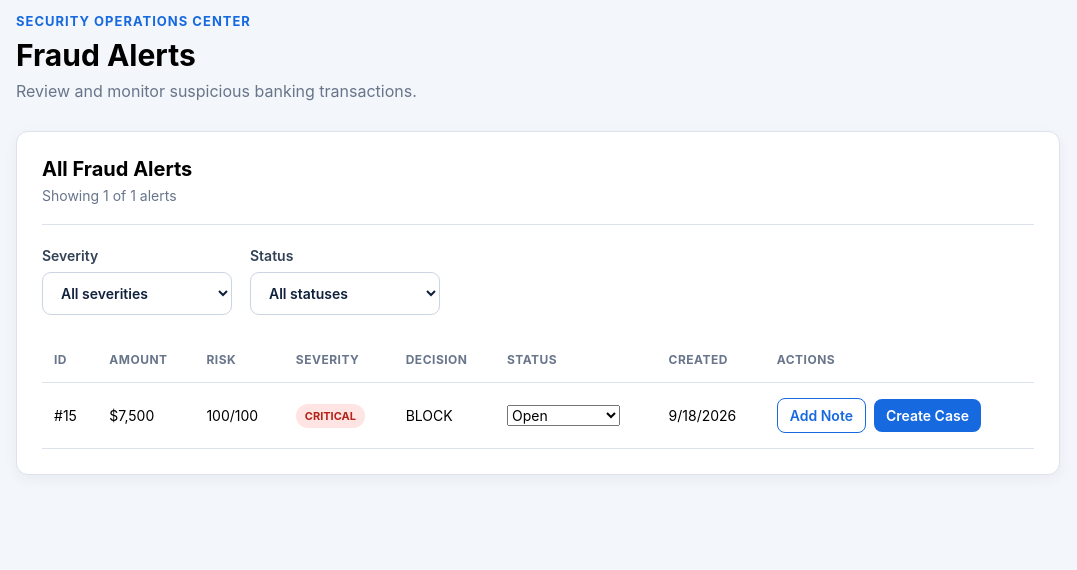
Test: FraudAlertsPage › updates an alert status
Select "Resolved" in the 3rd dropdown: (563, 416) [507,405,620,426]
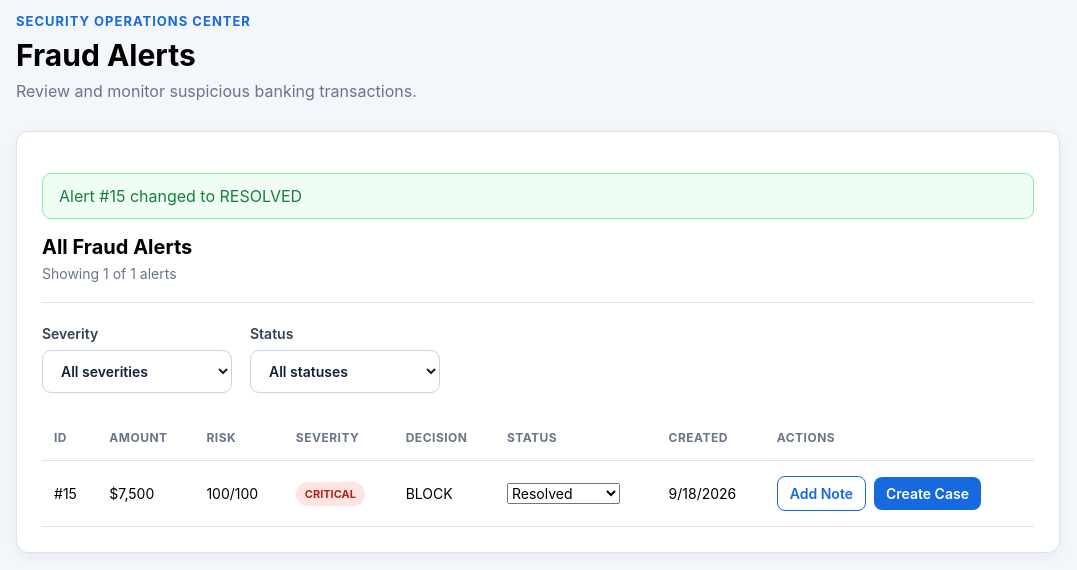
Expected: the text "Alert #15 changed to RESOLVED" is shown, [42,173,1034,219]
